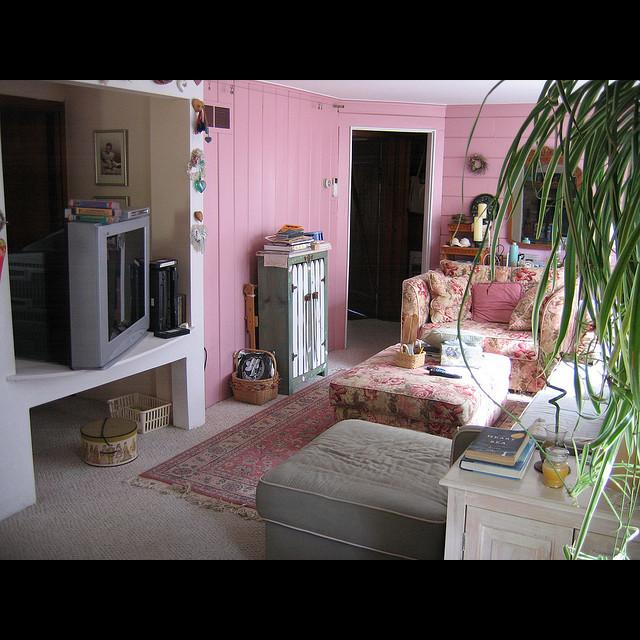TV-Remote-Control: (154, 327, 190, 339), (429, 368, 462, 379), (427, 366, 446, 371)
